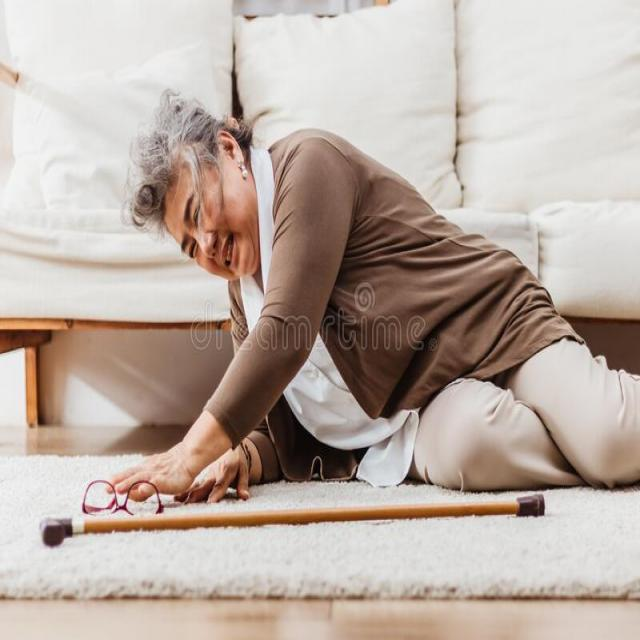Fall-Detected: (95, 88, 640, 544)
